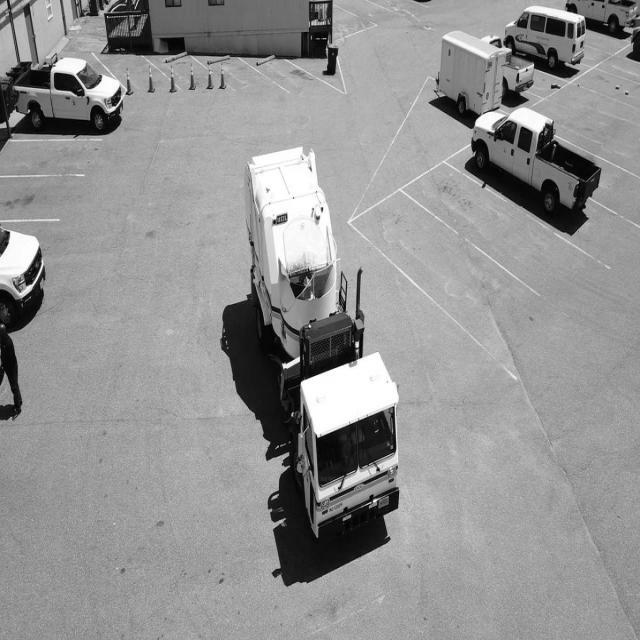Garbage Truck: (245, 146, 399, 542)
Pickup: (471, 108, 601, 215)
Trailer: (436, 31, 505, 117)
Van: (505, 5, 587, 69)
